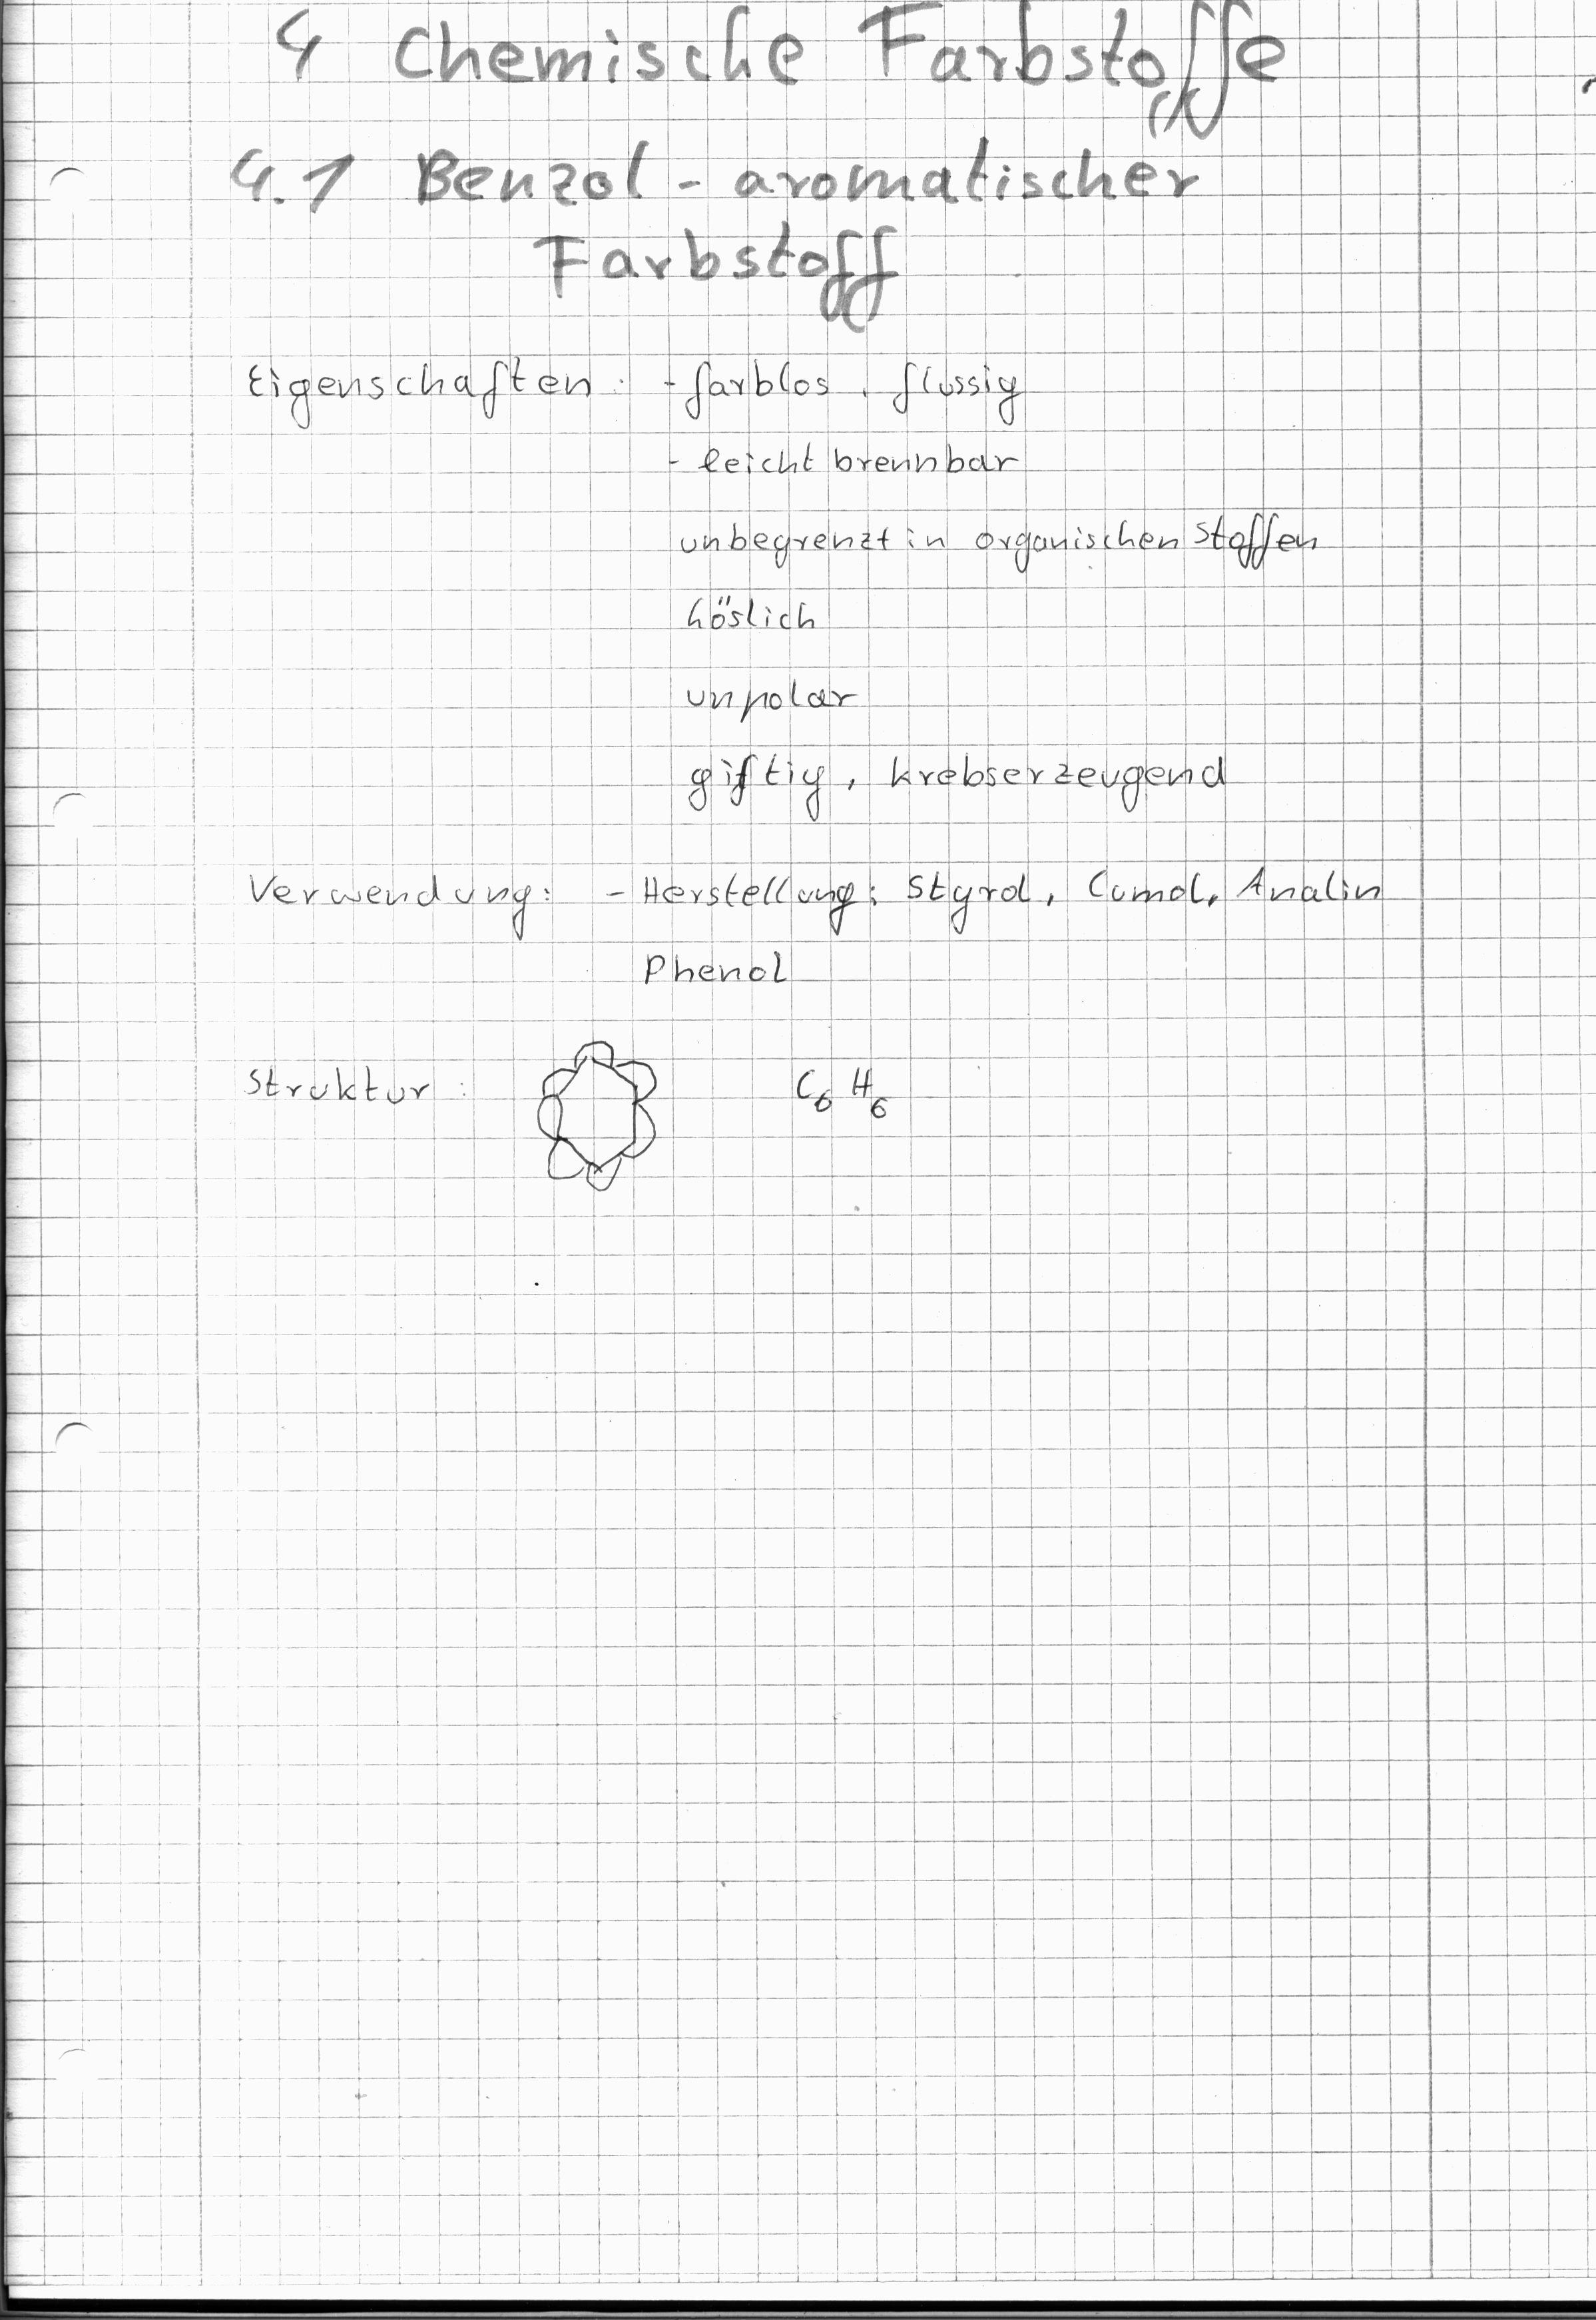word: (650, 344, 1330, 837), (597, 850, 1385, 998), (230, 337, 645, 439), (226, 846, 566, 952), (752, 1021, 926, 1146), (228, 1041, 481, 1123)
